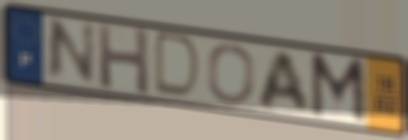A: (256, 49, 313, 115)
D: (151, 30, 205, 103)
H: (95, 22, 152, 99)
M: (307, 51, 370, 128)
N: (43, 16, 98, 85)
O: (206, 42, 257, 107)
